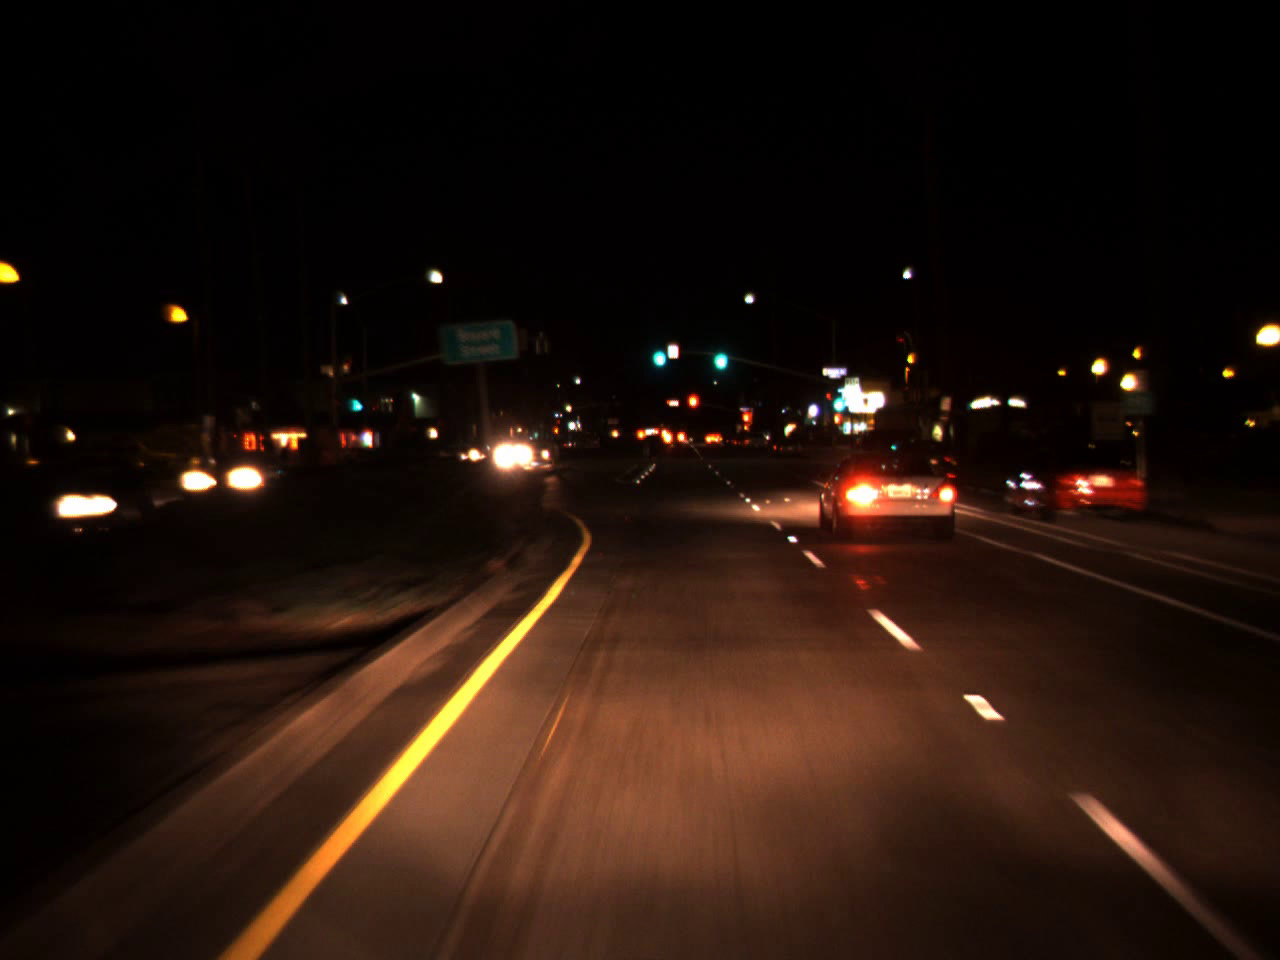go: (648, 332, 667, 371), (710, 341, 728, 371), (830, 384, 846, 414), (351, 387, 361, 414)
stop: (686, 390, 699, 425), (740, 409, 753, 436)
